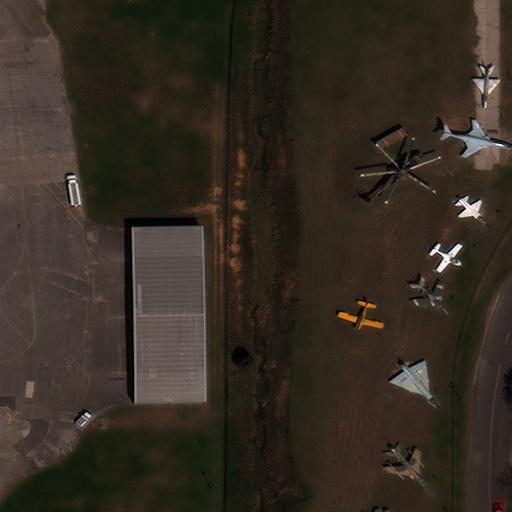Military Fighter: (440, 118, 512, 157), (388, 359, 441, 410), (387, 445, 434, 496), (471, 65, 500, 108), (413, 278, 448, 313), (457, 195, 490, 230), (430, 245, 462, 273)
Military Trainer: (337, 299, 382, 330)
